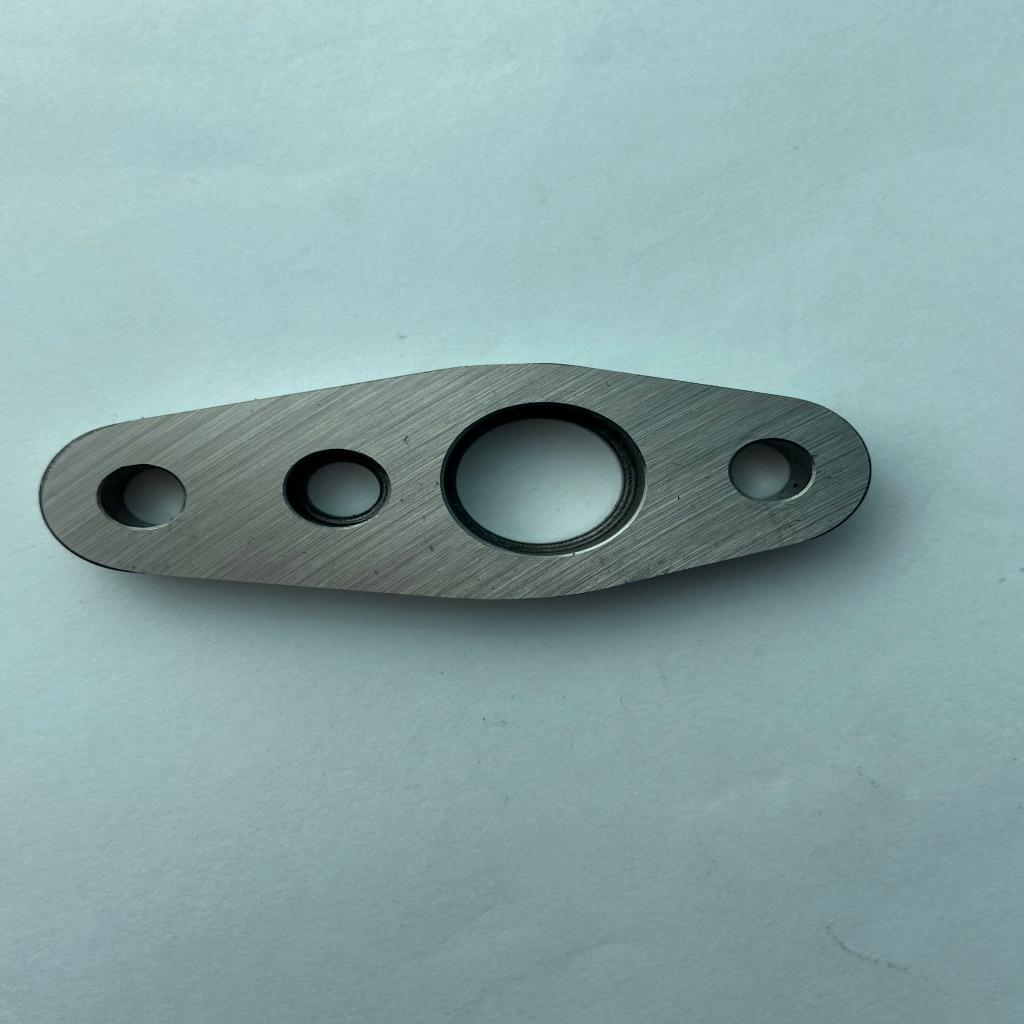chap: (400, 434, 410, 448)
